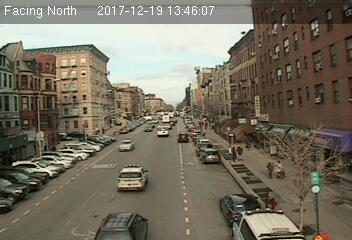car: (91, 211, 153, 240), (218, 191, 264, 225), (201, 148, 221, 163), (119, 139, 135, 152), (177, 133, 189, 143)
police: (231, 207, 306, 240), (117, 163, 151, 193)
truck: (156, 125, 169, 137)
